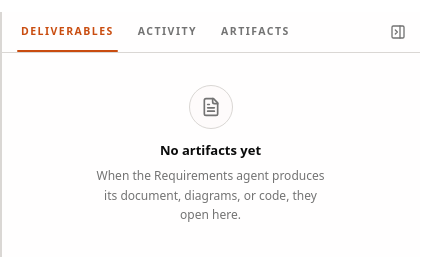
Test: the project artifacts tab › leaves out what is pending, rejected, or not a stored document
Click the tab "Artifacts" at [255, 32], box [209,12,302,52]
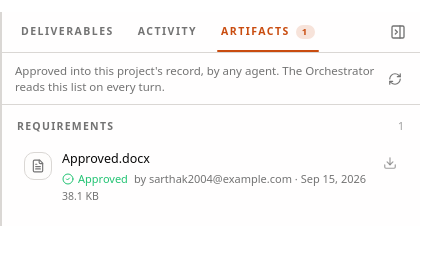
Result: the text "Approved.docx" is shown at [62,150,150,167]
